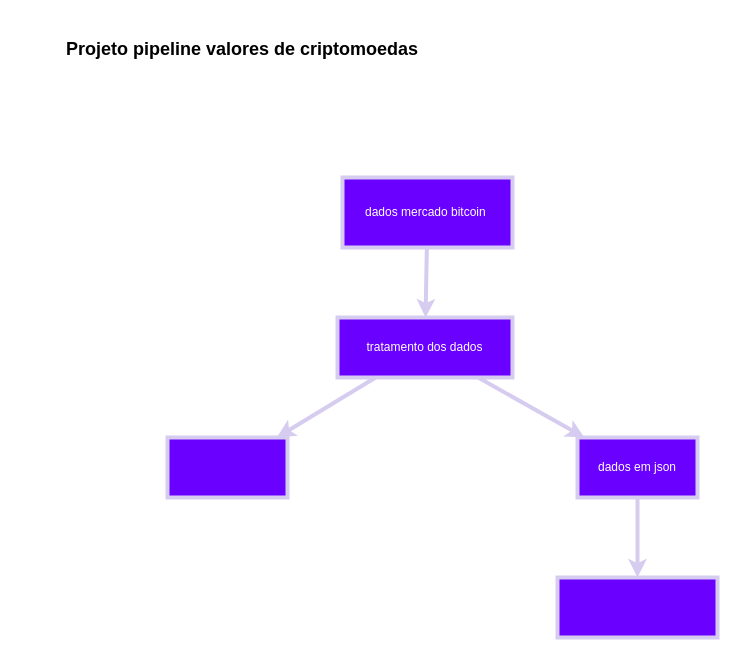
The diagram is 736 pixels wide and 657 high, and some of its shapes have lost their labels. Each missing label, with the centre of its shape:
"breia-data-cripto" goes at [637,607].
"dados em sqlite" goes at [227,467].
